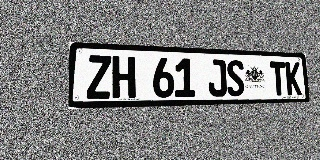1: (174, 58, 195, 97)
6: (153, 57, 174, 98)
H: (112, 56, 136, 99)
J: (208, 59, 227, 97)
K: (285, 62, 302, 95)
S: (226, 60, 245, 96)
T: (270, 61, 287, 96)
Z: (87, 55, 111, 99)
